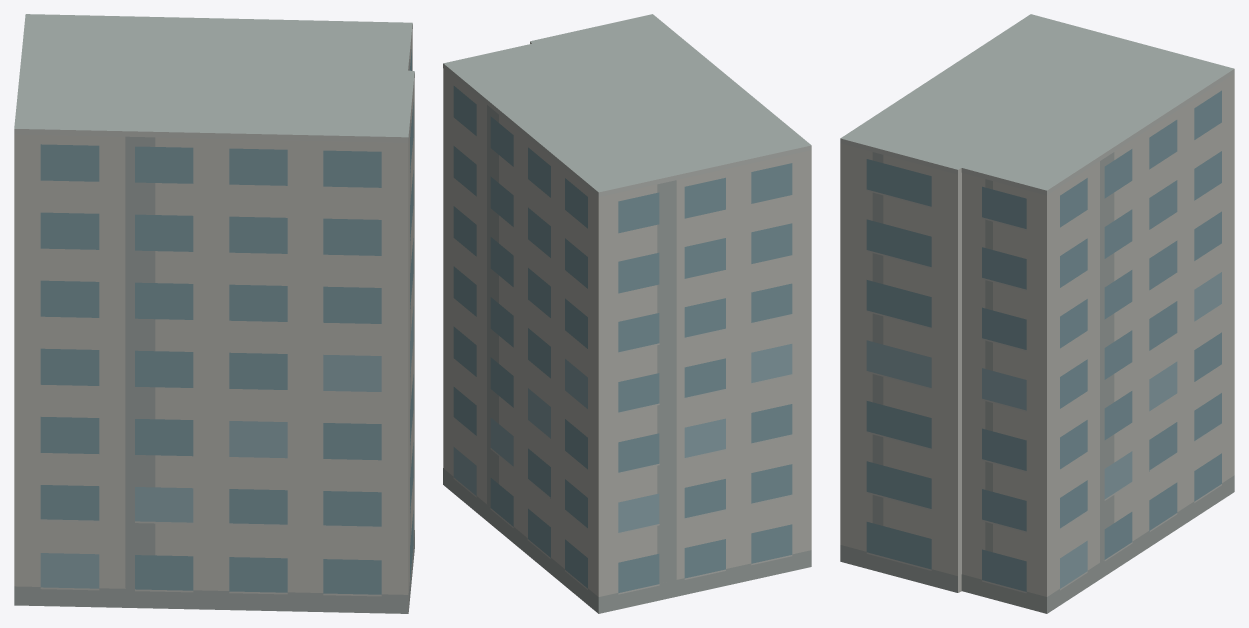
Rendered from survey-upis-32767358.glb.
3 renders of one model, left to right at view 1: azimuth 30°, elevation 25°; view 2: azimuth 150°, elevation 25°; view 3: azimuth 270°, elevation 25°, orthographic. The views are drawn at different scales.
Parts seen in each view (by area): view 1: survey-upis-32767358.tmp; view 2: survey-upis-32767358.tmp; view 3: survey-upis-32767358.tmp.
Boxes of the visible parts, x1,y1,x2,y2 form: survey-upis-32767358.tmp: (14,14,414,613); survey-upis-32767358.tmp: (443,14,811,613); survey-upis-32767358.tmp: (840,14,1234,613).
Bounding box in the file's own units: 18.81 × 21 × 17.74.
